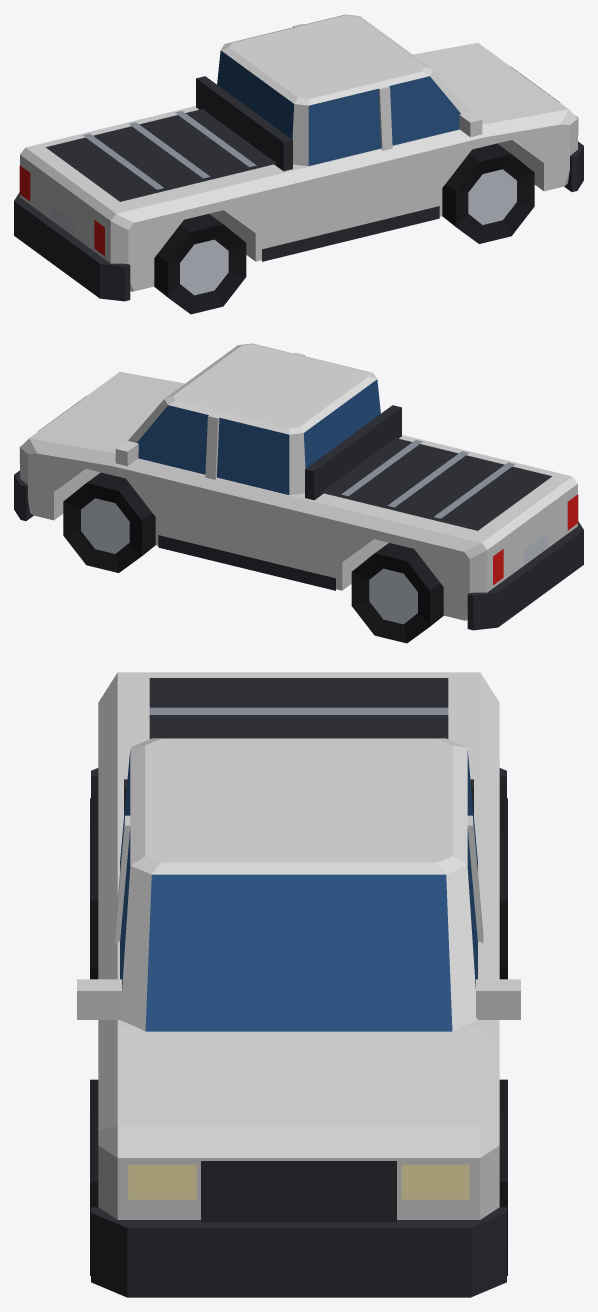
The model's file is pickup.glb.
The picture shows the model from 3 angles, top to bottom: view 1: azimuth 30°, elevation 25°; view 2: azimuth 150°, elevation 25°; view 3: azimuth 270°, elevation 25°; orthographic projection. The views are drawn at different scales.
Parts seen in each view (by area): view 1: Body; view 2: Body; view 3: Body.
Boxes of the visible parts, x1=… form: Body: x1=14, y1=14, x2=583, y2=314; Body: x1=14, y1=343, x2=583, y2=643; Body: x1=77, y1=672, x2=520, y2=1297.
Bounding box in the file's own units: 0.524 × 0.179 × 0.208.
